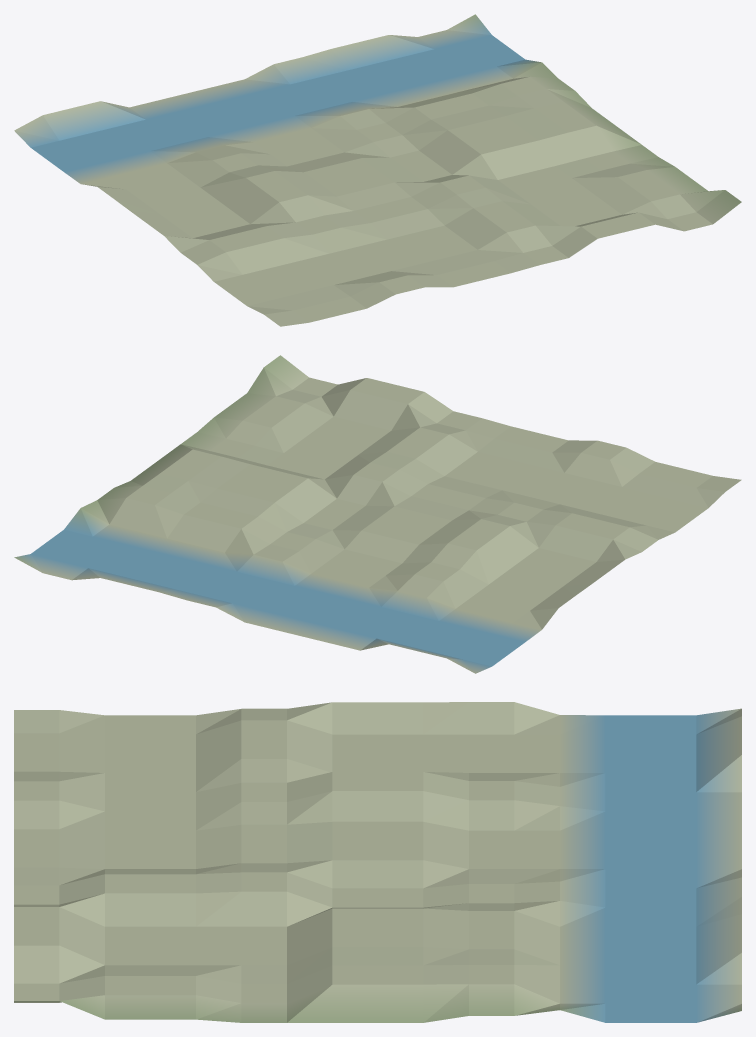
3 renders of one model, top to bottom at view 1: azimuth 30°, elevation 25°; view 2: azimuth 150°, elevation 25°; view 3: azimuth 270°, elevation 25°, orthographic. The views are drawn at different scales.
Size of the model in its own units: 32 by 1.06 by 32.
